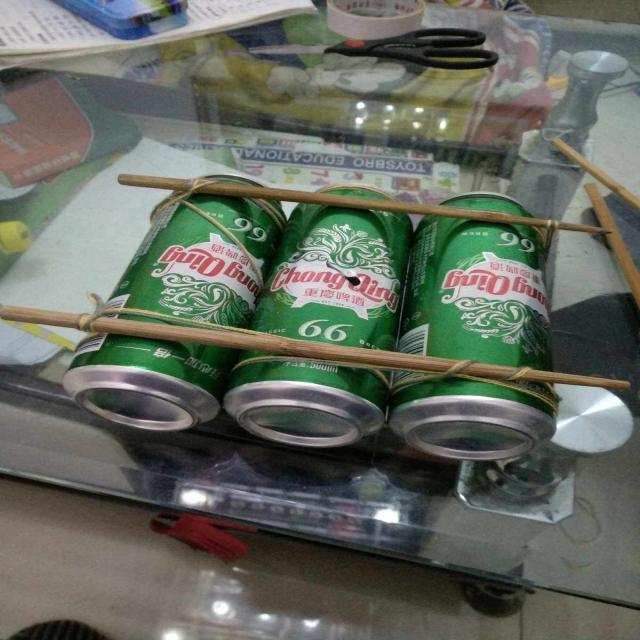can: (103, 192, 285, 326), (396, 216, 552, 370), (252, 204, 412, 352), (64, 332, 236, 432), (225, 352, 388, 447), (388, 372, 556, 461), (444, 192, 528, 216)
